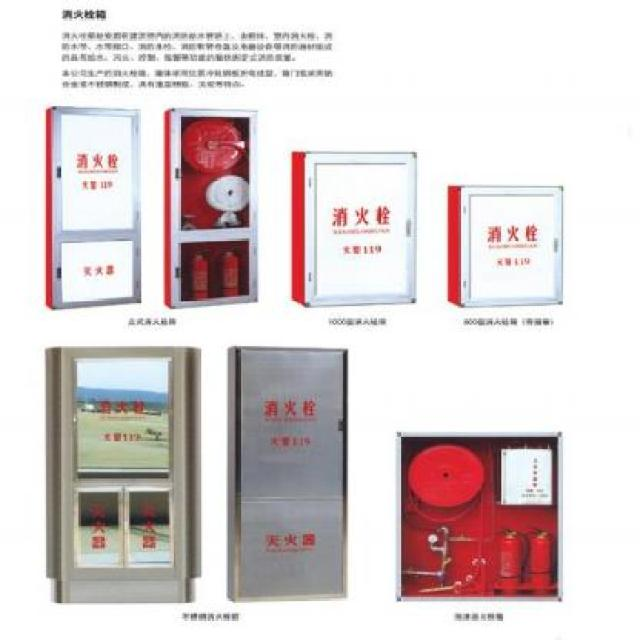firehydrant: (40, 343, 206, 605), (222, 340, 352, 607), (391, 426, 567, 604), (286, 146, 422, 312), (41, 103, 146, 314), (160, 106, 263, 312), (443, 179, 568, 313)
